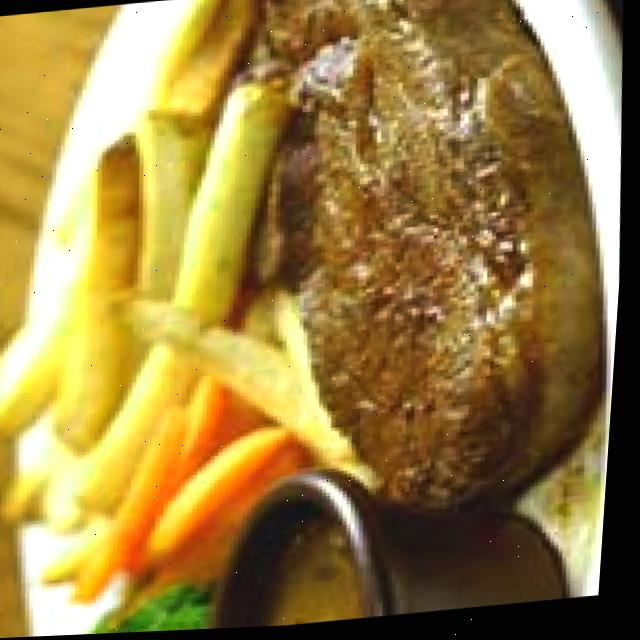牛肉菜式: (182, 0, 640, 545)
